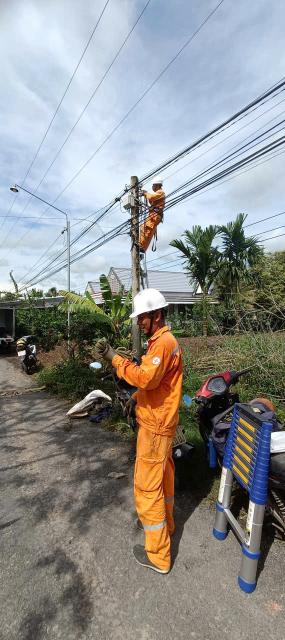gloves: (95, 339, 121, 364), (138, 188, 149, 199)
harness: (144, 203, 170, 219)
helmet: (124, 288, 172, 318), (151, 177, 165, 185)
shoes: (128, 541, 172, 574), (132, 512, 175, 537), (132, 241, 147, 252)
